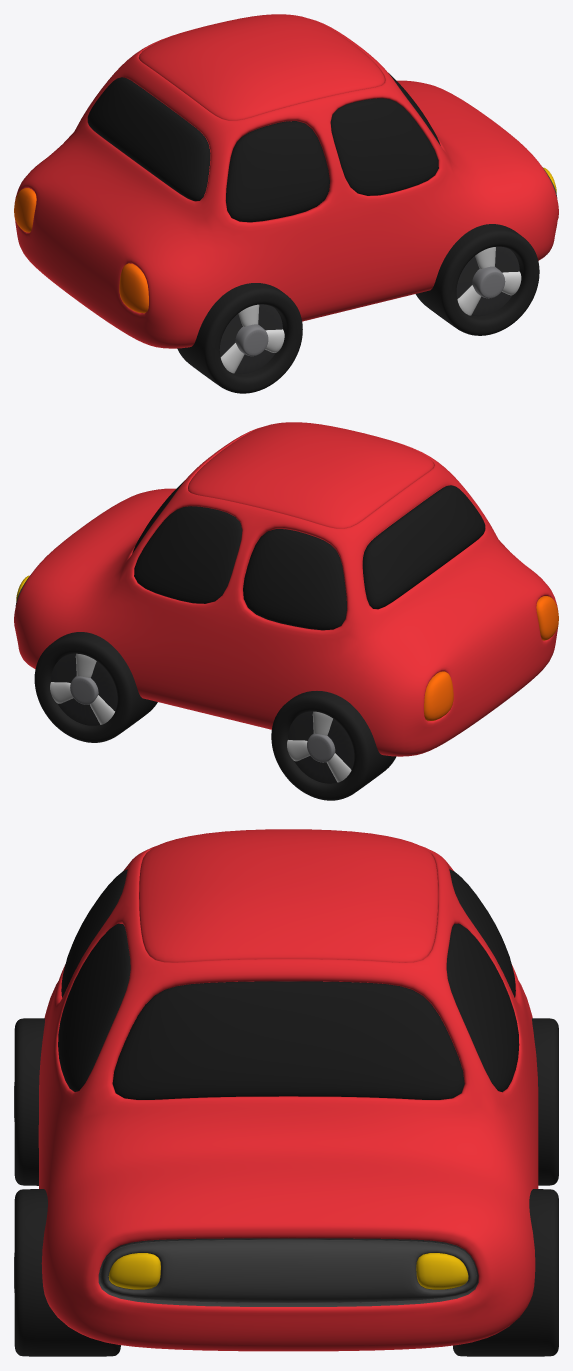
The model's file is car-rent-animated-3d-icon-777879867460.glb.
3 views of the same model, one above another, from view 1: azimuth 30°, elevation 25°; view 2: azimuth 150°, elevation 25°; view 3: azimuth 270°, elevation 25° (orthographic). The views are drawn at different scales.
Parts seen in each view (by area): view 1: Body.003, Wheel.001, Wheel.002, Rim 1.007, Rim 1.006, Rim 2.002, Rim 2.003, Rim 1.002, Rim 1.003; view 2: Body.003, Wheel.003, Wheel.004, Rim 1.008, Rim 1.009, Rim 2.005, Rim 2.004, Rim 1.004, Rim 1.005; view 3: Body.003, Wheel.002, Wheel.004, Wheel.001, Wheel.003.
Boxes of the visible parts, x1=… form: Body.003: x1=14, y1=14, x2=558, y2=348; Wheel.001: x1=177, y1=283, x2=302, y2=393; Wheel.002: x1=415, y1=224, x2=539, y2=335; Rim 1.007: x1=456, y1=246, x2=519, y2=316; Rim 1.006: x1=219, y1=304, x2=282, y2=373; Rim 2.002: x1=220, y1=304, x2=284, y2=373; Rim 2.003: x1=457, y1=247, x2=521, y2=315; Rim 1.002: x1=235, y1=324, x2=268, y2=356; Rim 1.003: x1=472, y1=266, x2=505, y2=298; Body.003: x1=14, y1=422, x2=558, y2=756; Wheel.003: x1=271, y1=691, x2=396, y2=800; Wheel.004: x1=34, y1=632, x2=157, y2=742; Rim 1.008: x1=288, y1=711, x2=354, y2=783; Rim 1.009: x1=51, y1=653, x2=117, y2=725; Rim 2.005: x1=50, y1=653, x2=114, y2=724; Rim 2.004: x1=287, y1=711, x2=351, y2=782; Rim 1.004: x1=307, y1=733, x2=335, y2=762; Rim 1.005: x1=70, y1=676, x2=98, y2=704; Body.003: x1=38, y1=829, x2=538, y2=1351; Wheel.002: x1=14, y1=1189, x2=120, y2=1356; Wheel.004: x1=453, y1=1189, x2=558, y2=1356; Wheel.001: x1=14, y1=1018, x2=44, y2=1185; Wheel.003: x1=532, y1=1018, x2=558, y2=1185.
Size of what is drawn, in the model's own units: 2.54 by 1.45 by 1.88.
